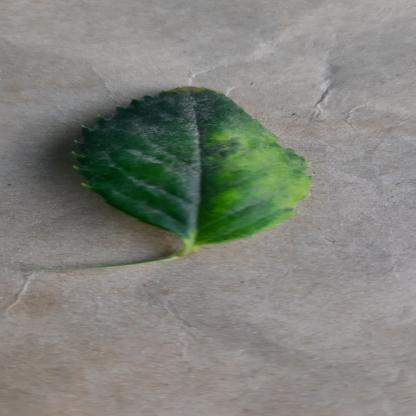black-spot: (62, 87, 324, 245)
